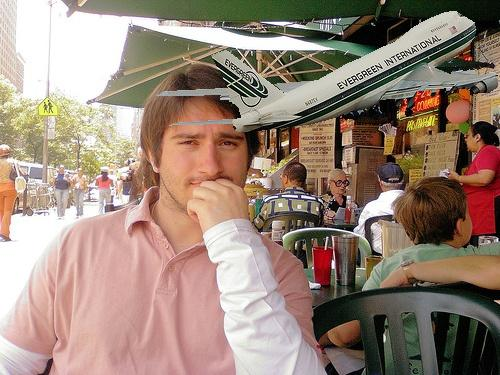tampered: (157, 12, 498, 132)
